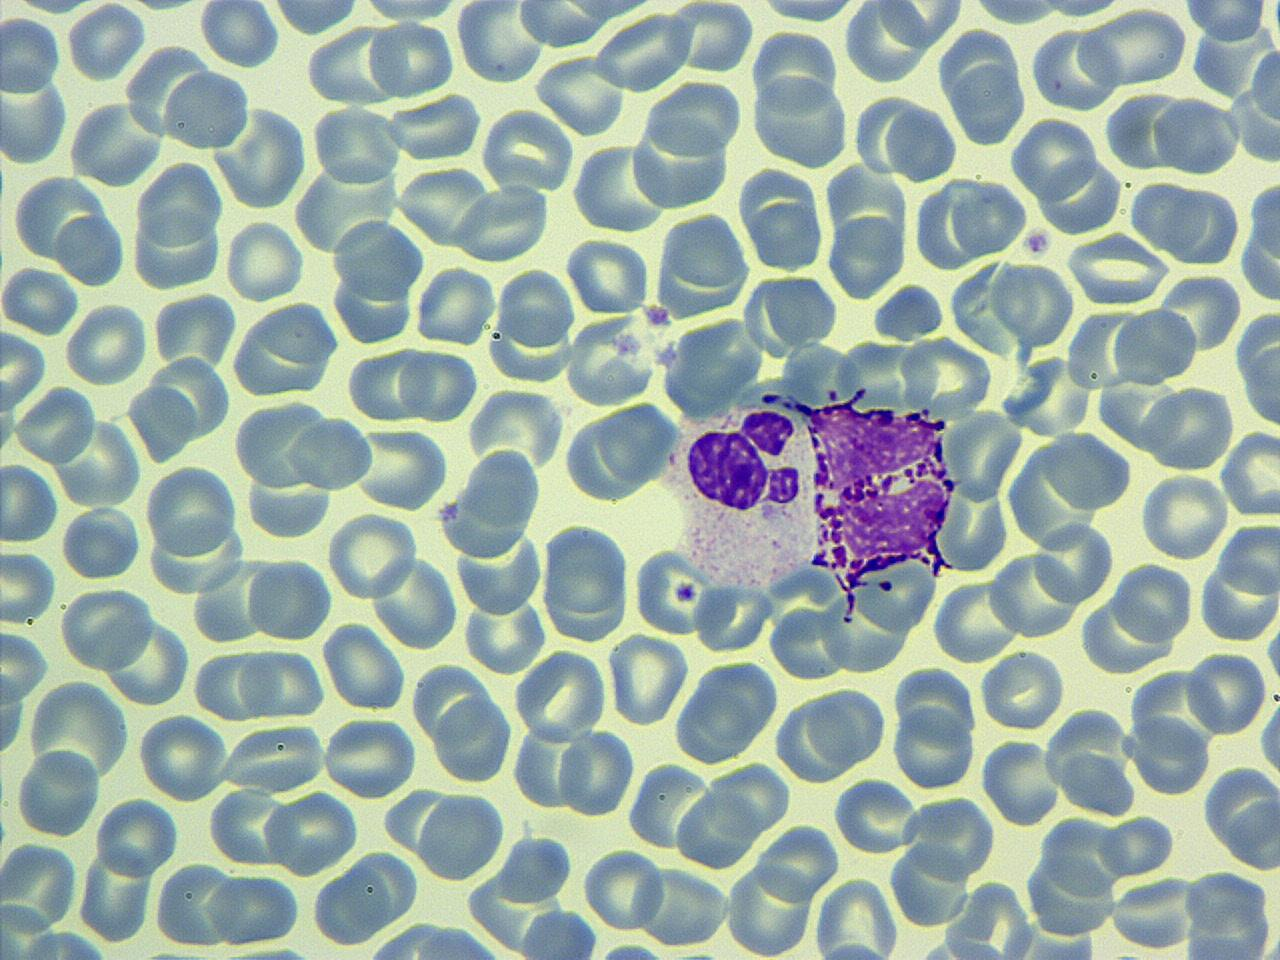Platelets: (596, 940, 664, 960)
RBC: (433, 442, 546, 560), (670, 656, 782, 768), (229, 296, 342, 398), (539, 519, 631, 643), (652, 209, 752, 320), (212, 102, 308, 212), (626, 115, 730, 210), (750, 71, 850, 168), (144, 460, 239, 559), (1078, 4, 1188, 89), (513, 646, 609, 743), (369, 551, 460, 652), (12, 170, 110, 264), (564, 310, 658, 406), (568, 138, 664, 232), (67, 98, 165, 188), (987, 546, 1079, 640), (725, 860, 816, 956), (325, 509, 418, 602), (352, 424, 450, 512), (147, 509, 244, 598), (478, 106, 574, 195), (415, 790, 505, 884), (999, 349, 1095, 438), (321, 714, 419, 800), (1139, 468, 1229, 562), (644, 75, 744, 158), (136, 711, 228, 802), (104, 613, 191, 708), (264, 790, 360, 876), (1143, 382, 1235, 472), (59, 583, 152, 672), (130, 205, 225, 291), (898, 334, 996, 417), (1030, 23, 1120, 114), (55, 414, 142, 508), (15, 744, 102, 838), (453, 182, 550, 264), (631, 544, 718, 636), (310, 102, 404, 188), (532, 51, 627, 136), (305, 24, 401, 108), (607, 630, 688, 728), (1008, 113, 1098, 202), (1066, 229, 1170, 306), (596, 12, 692, 94), (930, 575, 1020, 663), (246, 554, 334, 643), (990, 257, 1075, 349), (1151, 92, 1241, 178), (978, 646, 1068, 732), (220, 722, 324, 797), (331, 218, 425, 299), (752, 26, 840, 114), (162, 67, 251, 153), (563, 234, 655, 318), (322, 620, 406, 710), (1107, 872, 1199, 954), (0, 57, 70, 166), (980, 734, 1061, 827), (936, 474, 1010, 576), (558, 724, 636, 820), (594, 400, 680, 486), (222, 216, 307, 303), (65, 298, 149, 386), (582, 844, 666, 932), (366, 16, 457, 98), (433, 692, 514, 784), (754, 820, 840, 906), (93, 795, 178, 880), (889, 839, 971, 929), (1033, 516, 1115, 606), (826, 210, 908, 299), (1185, 646, 1267, 736), (1158, 269, 1242, 356), (1111, 304, 1199, 385), (332, 261, 415, 346), (462, 592, 546, 676), (1111, 558, 1195, 641), (496, 264, 577, 352), (208, 870, 300, 946), (190, 556, 271, 642), (892, 704, 975, 788), (810, 682, 890, 768), (1128, 716, 1212, 797), (415, 262, 496, 347), (11, 384, 97, 464), (833, 774, 918, 854), (950, 59, 1027, 148), (287, 416, 374, 494), (1037, 157, 1123, 235), (346, 346, 433, 422), (66, 1, 146, 83), (950, 175, 1028, 260), (238, 644, 325, 720), (666, 0, 756, 73), (694, 578, 774, 656), (60, 503, 142, 580), (853, 92, 924, 178), (127, 378, 197, 465), (396, 346, 476, 422), (886, 101, 957, 185), (746, 198, 822, 274), (54, 210, 128, 289), (764, 271, 839, 349), (1, 263, 80, 336), (1237, 177, 1280, 308), (1220, 426, 1280, 518), (198, 1, 280, 69), (1097, 811, 1177, 877), (0, 458, 60, 546), (0, 13, 62, 97), (1219, 520, 1280, 602), (1, 544, 57, 628), (872, 0, 966, 49), (872, 282, 946, 342), (516, 0, 606, 49), (1239, 325, 1279, 433), (1, 325, 49, 413), (1224, 794, 1278, 872), (0, 624, 51, 702), (1182, 0, 1272, 40), (266, 0, 364, 36), (354, 0, 464, 30), (751, 0, 865, 26), (1, 659, 26, 768), (967, 0, 1061, 27)
WBC: (672, 654, 780, 766), (439, 446, 540, 561), (230, 296, 340, 398), (656, 211, 752, 317), (750, 70, 850, 168), (129, 203, 226, 288), (163, 68, 252, 153), (345, 920, 530, 960), (1237, 33, 1280, 168), (514, 907, 603, 959)
